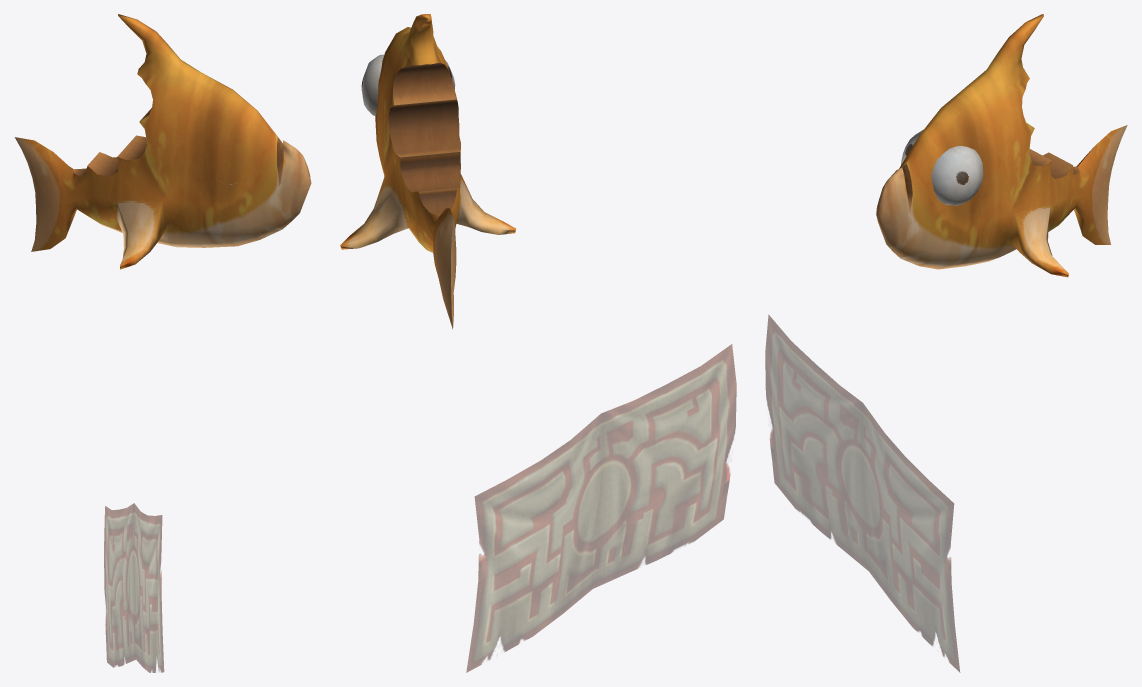
Rendered from hj2-kiosk-mesh.glb.
3 renders of one model, left to right at view 1: azimuth 30°, elevation 25°; view 2: azimuth 150°, elevation 25°; view 3: azimuth 270°, elevation 25°, orthographic. The views are drawn at different scales.
Parts seen in each view (by area): view 1: hj2-kiosk-props; view 2: hj2-kiosk-props; view 3: hj2-kiosk-props.
Boxes of the visible parts, left/top/right/bottom form: hj2-kiosk-props: left=14, top=14, right=311, bottom=672; hj2-kiosk-props: left=340, top=14, right=736, bottom=672; hj2-kiosk-props: left=765, top=14, right=1127, bottom=672.
Bounding box in the file's own units: 5.33 × 12.22 × 6.12.
5 materials, 5 textured.
